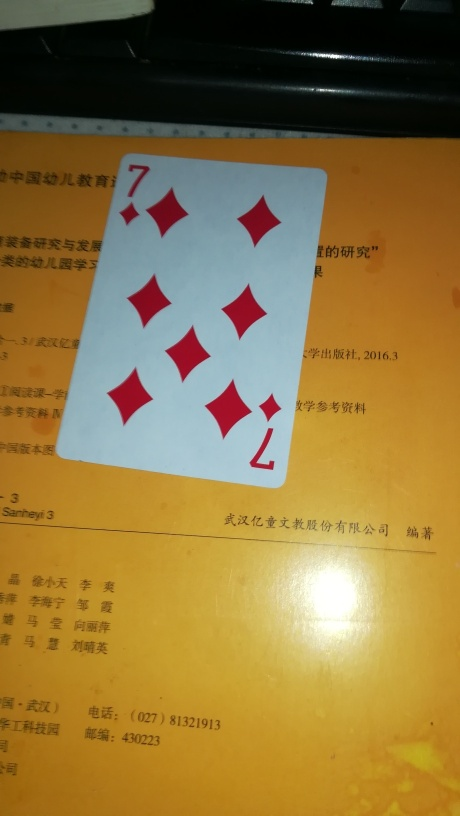fk 7: (55, 152, 326, 487)
